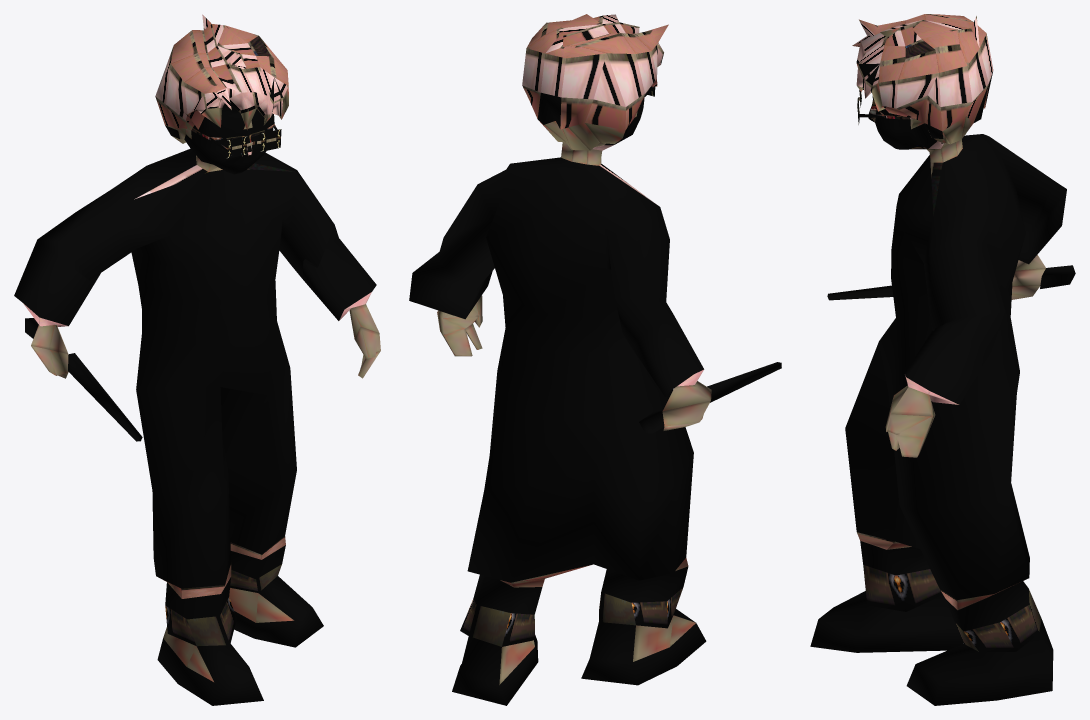
3 views of the same model, side by side, from view 1: azimuth 30°, elevation 25°; view 2: azimuth 150°, elevation 25°; view 3: azimuth 270°, elevation 25° (orthographic). The views are drawn at different scales.
Visible parts, largest first — view 1: T1L4M003_8; view 2: T1L4M003_8; view 3: T1L4M003_8.
Boxes of the visible parts, left/top/right/bottom form: T1L4M003_8: left=14, top=14, right=380, bottom=705; T1L4M003_8: left=409, top=14, right=781, bottom=705; T1L4M003_8: left=810, top=14, right=1075, bottom=705.
Bounding box in the file's own units: 0.7227 × 1.38 × 0.5166.
